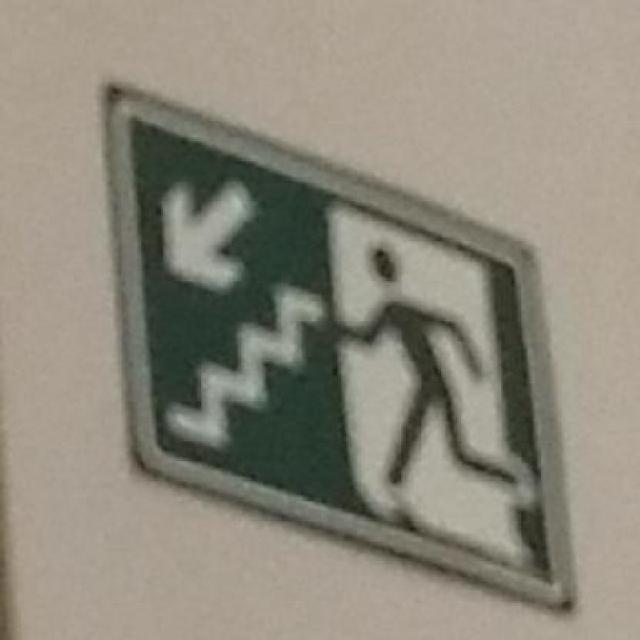emergency_exit: (100, 80, 580, 613)
